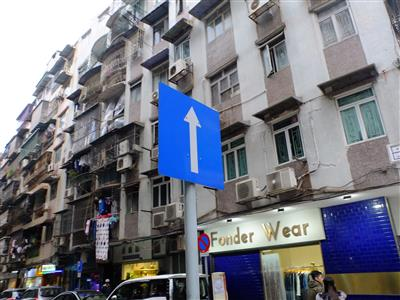oneway: (150, 72, 232, 195)
